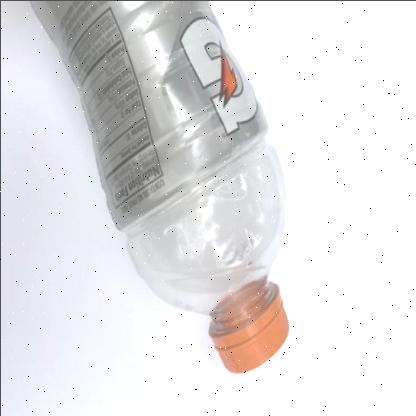Plastic Bottle: (28, 0, 288, 372)
